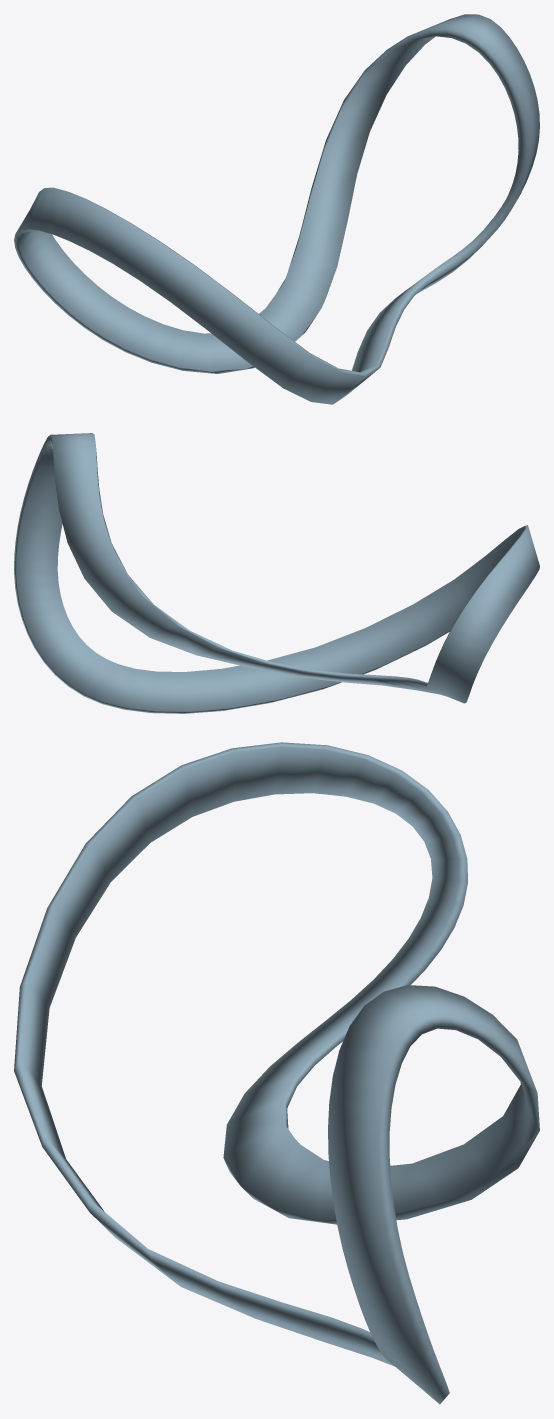
File: Gallery_action_Moebius.glb
3 views of the same model, one above another, from view 1: azimuth 30°, elevation 25°; view 2: azimuth 150°, elevation 25°; view 3: azimuth 270°, elevation 25° (orthographic). The views are drawn at different scales.
Parts seen in each view (by area): view 1: Gallery_Action_Moebius; view 2: Gallery_Action_Moebius; view 3: Gallery_Action_Moebius.
Part boxes in pixels (box(x1,y1,x2,y2)): Gallery_Action_Moebius: box(14, 14, 539, 404); Gallery_Action_Moebius: box(14, 433, 539, 713); Gallery_Action_Moebius: box(14, 742, 539, 1404).
Size of the model in its own units: 27.71 by 14.27 by 15.46.
Materials: 2 (2 with a texture image).
